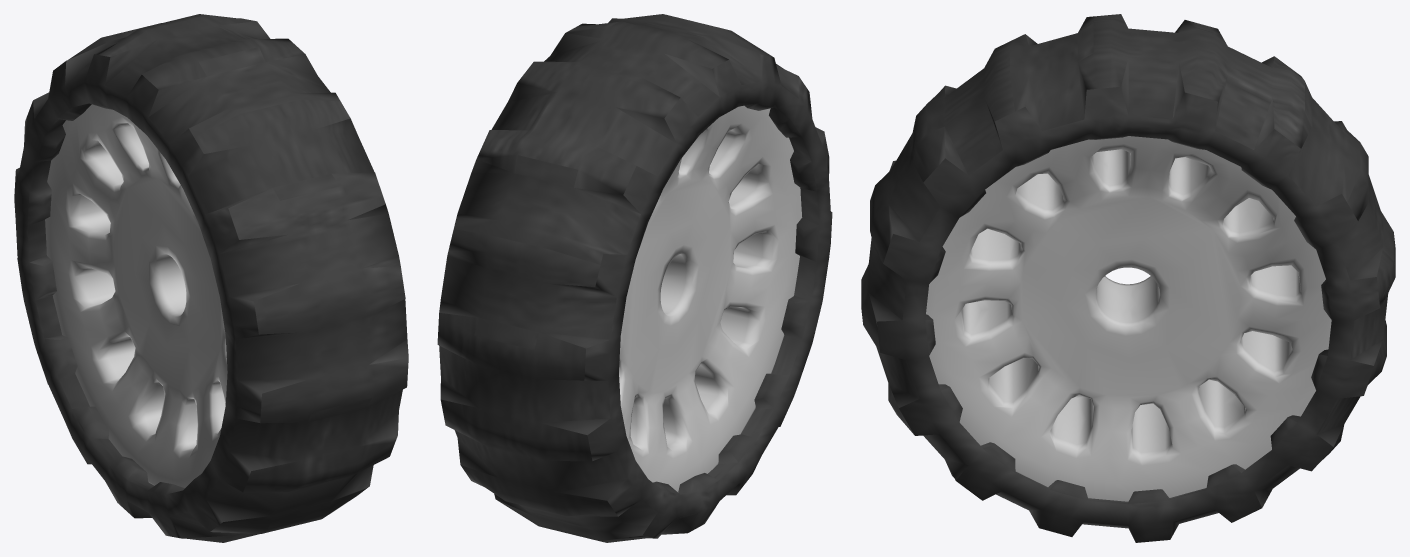
File: wheel.obj
3 views of the same model, side by side, from view 1: azimuth 30°, elevation 25°; view 2: azimuth 150°, elevation 25°; view 3: azimuth 270°, elevation 25° (orthographic).
Parts seen in each view (by area): view 1: Cylinder.000; view 2: Cylinder.000; view 3: Cylinder.000.
Boxes of the visible parts, bbox=[...] form: Cylinder.000: bbox=[14, 14, 408, 542]; Cylinder.000: bbox=[437, 14, 832, 542]; Cylinder.000: bbox=[861, 14, 1395, 542].
Bounding box in the file's own units: 1.53 × 4.11 × 4.11.
